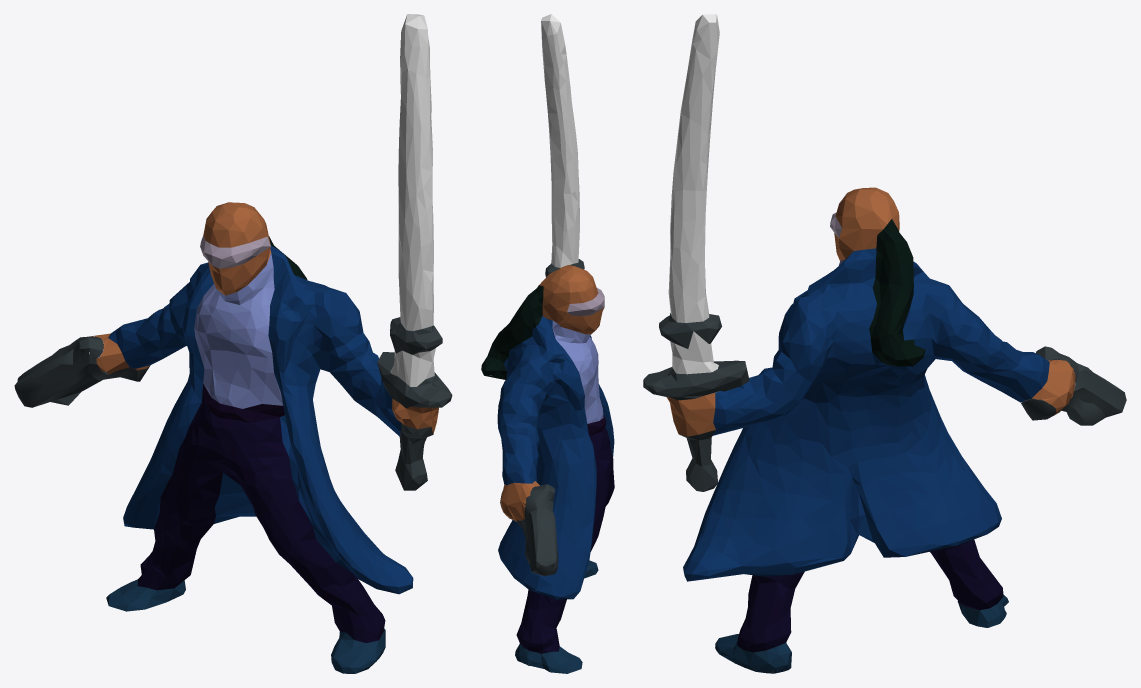
File: agent_carr_low_poly_colored_1.glb
3 renders of one model, left to right at view 1: azimuth 30°, elevation 25°; view 2: azimuth 150°, elevation 25°; view 3: azimuth 270°, elevation 25°, orthographic. The views are drawn at different scales.
Visible parts, largest first — view 1: EditedDecimatedCarr; view 2: EditedDecimatedCarr; view 3: EditedDecimatedCarr.
Boxes of the visible parts, x1,y1,x2,y2 form: EditedDecimatedCarr: [14, 14, 452, 673]; EditedDecimatedCarr: [481, 14, 614, 673]; EditedDecimatedCarr: [643, 14, 1126, 673].
Bounding box in the file's own units: 0.9497 × 2.72 × 1.8.
